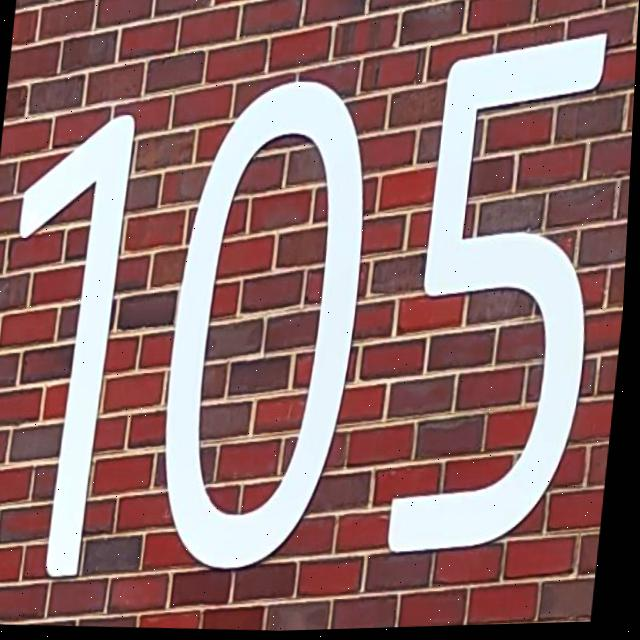character: (383, 15, 623, 575), (139, 64, 385, 587), (0, 101, 141, 592)
